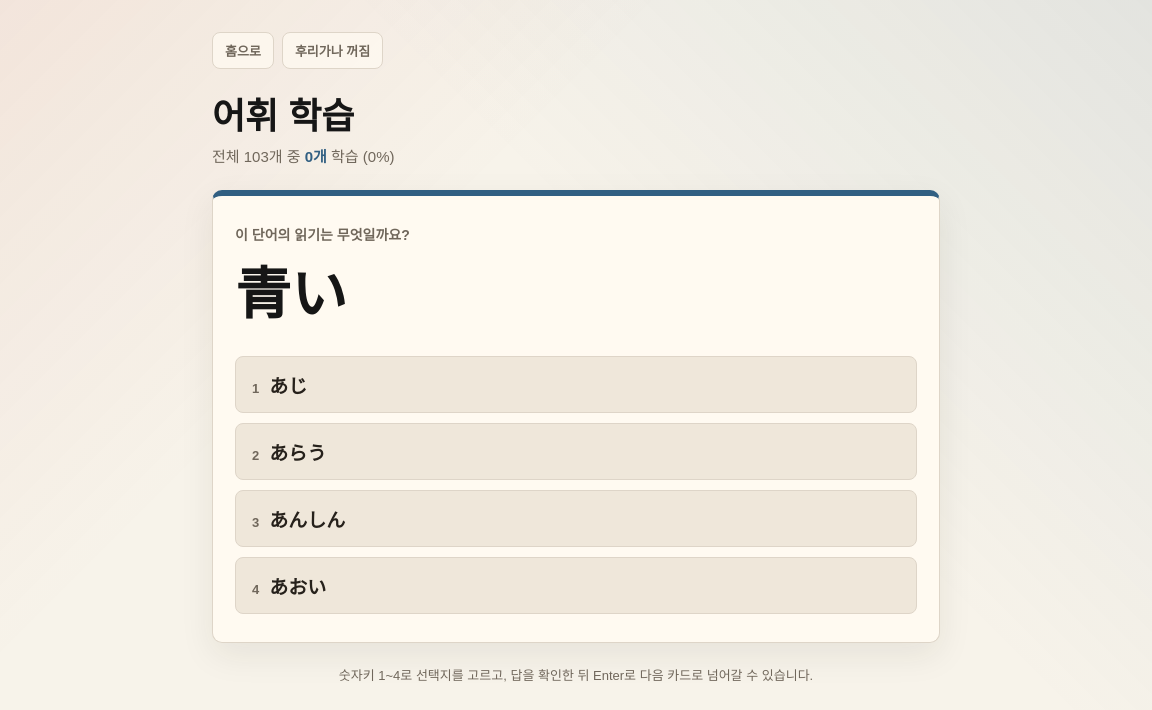
학습 화면 (S1, AC-4) › 답한 뒤 Enter로 다음 카드로 넘어간다 (JN4-U08, AC-9)
Click the button "4あおい".
click(298, 588)  # box [235,557,917,614]
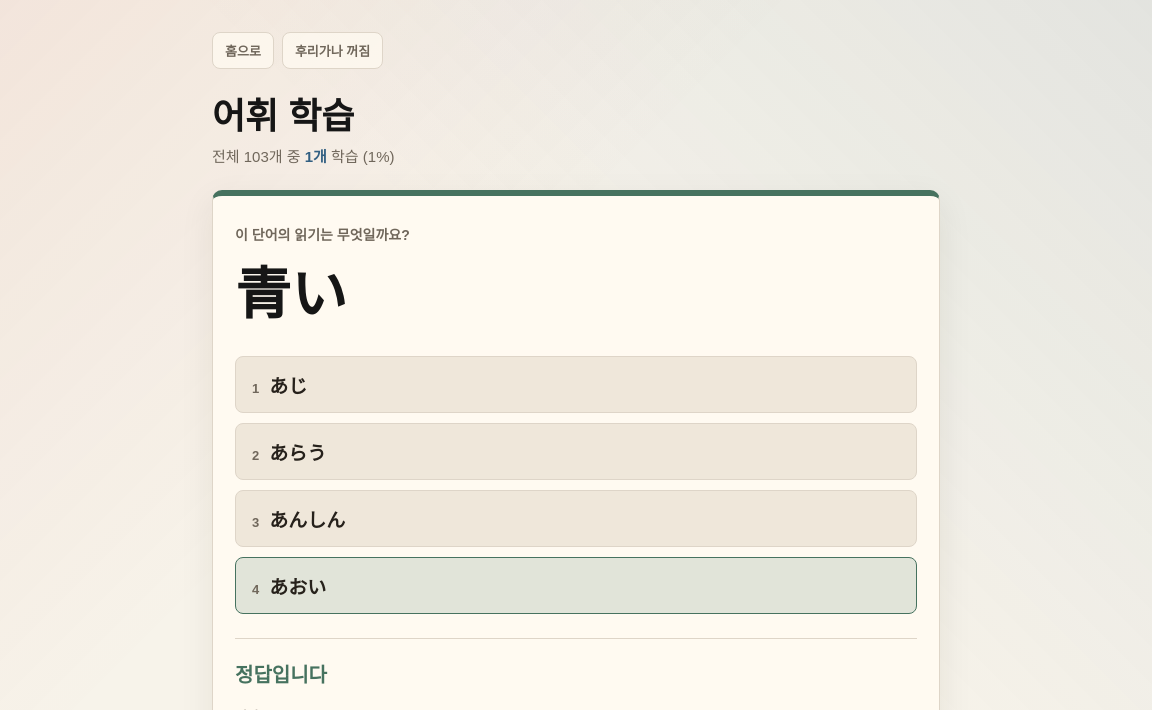
Press Enter
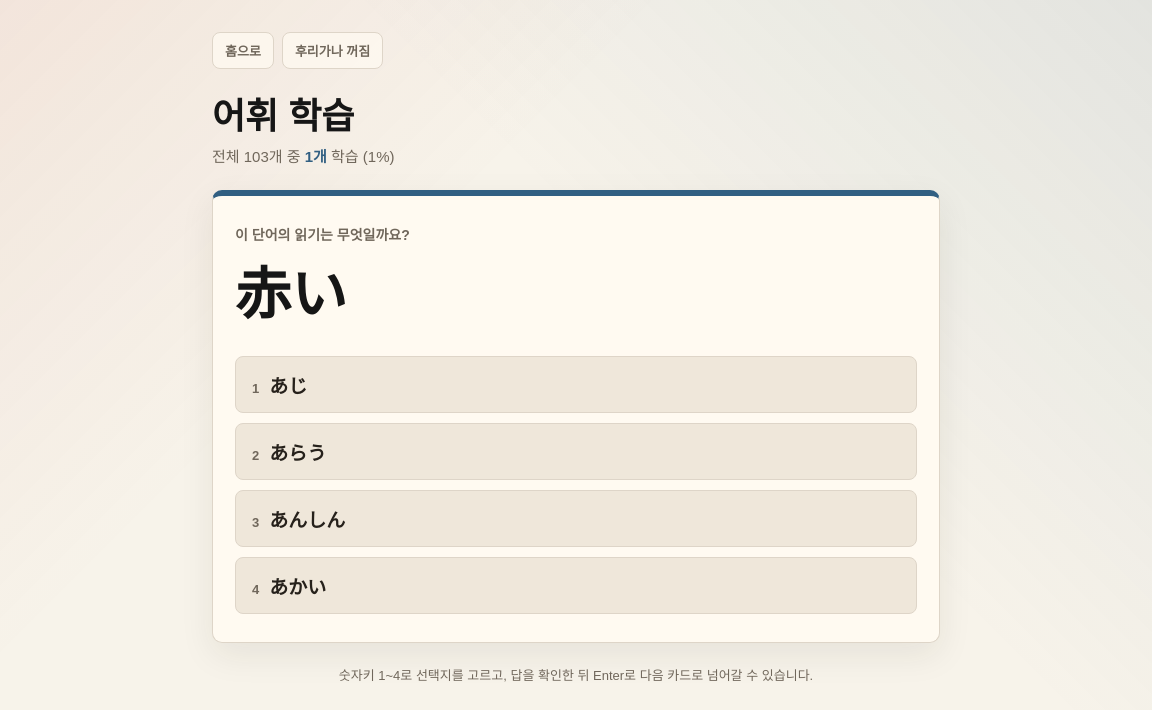
Now the text with test id "verdict" is gone
Now the text with test id "card-subject" no longer shows "青い", box [235,263,347,326]
